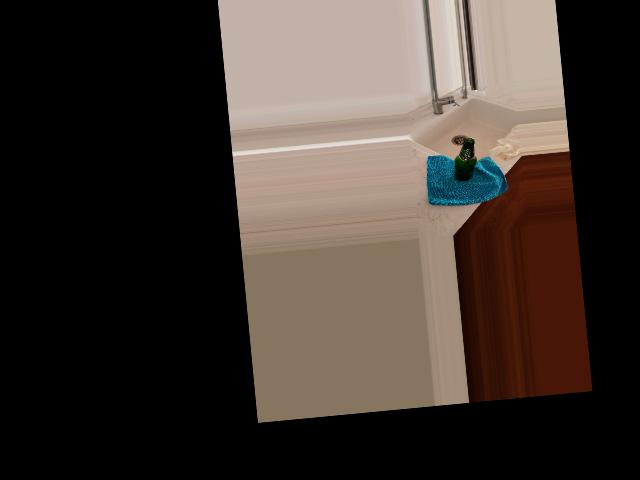beer: (451, 138, 479, 182)
